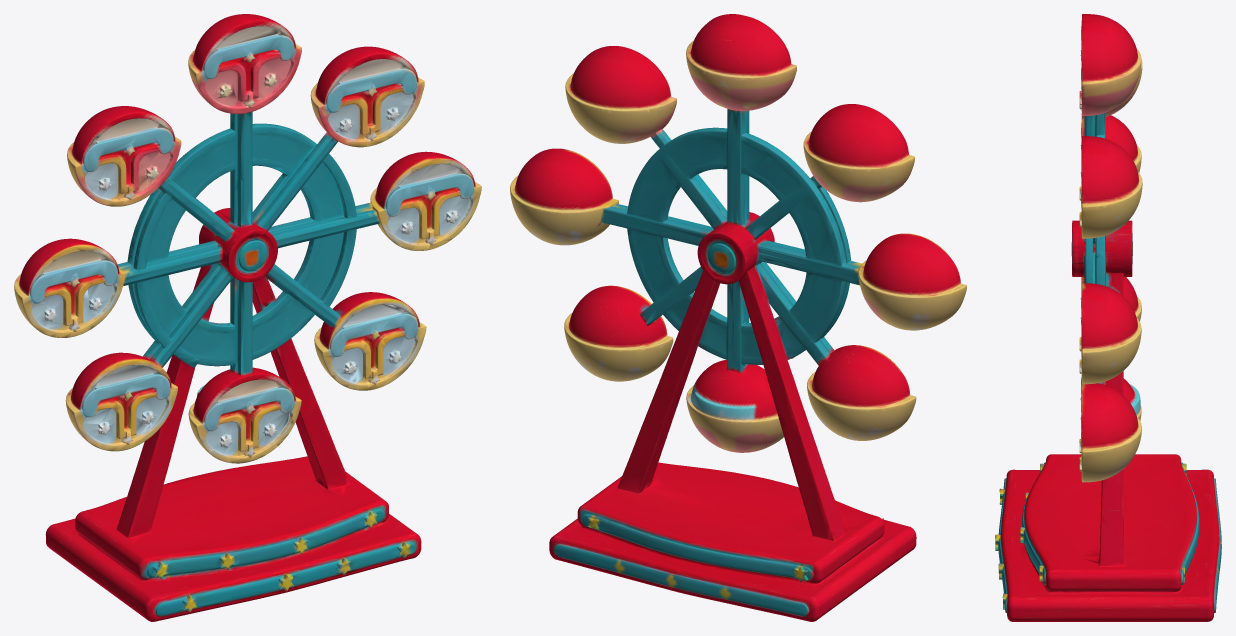
Rendered from theme_park_level2.glb.
The picture shows the model from 3 angles, left to right: view 1: azimuth 30°, elevation 25°; view 2: azimuth 150°, elevation 25°; view 3: azimuth 270°, elevation 25°; orthographic projection. The views are drawn at different scales.
Visible parts, largest first — view 1: material; view 2: material; view 3: material.
Part boxes in pixels (box(x1,y1,x2,y2)): material: box(14, 14, 481, 621); material: box(510, 14, 966, 621); material: box(995, 14, 1221, 621).
Size of the model in its own units: 0.9059 by 1.02 by 0.389.
1 material, 1 textured.
